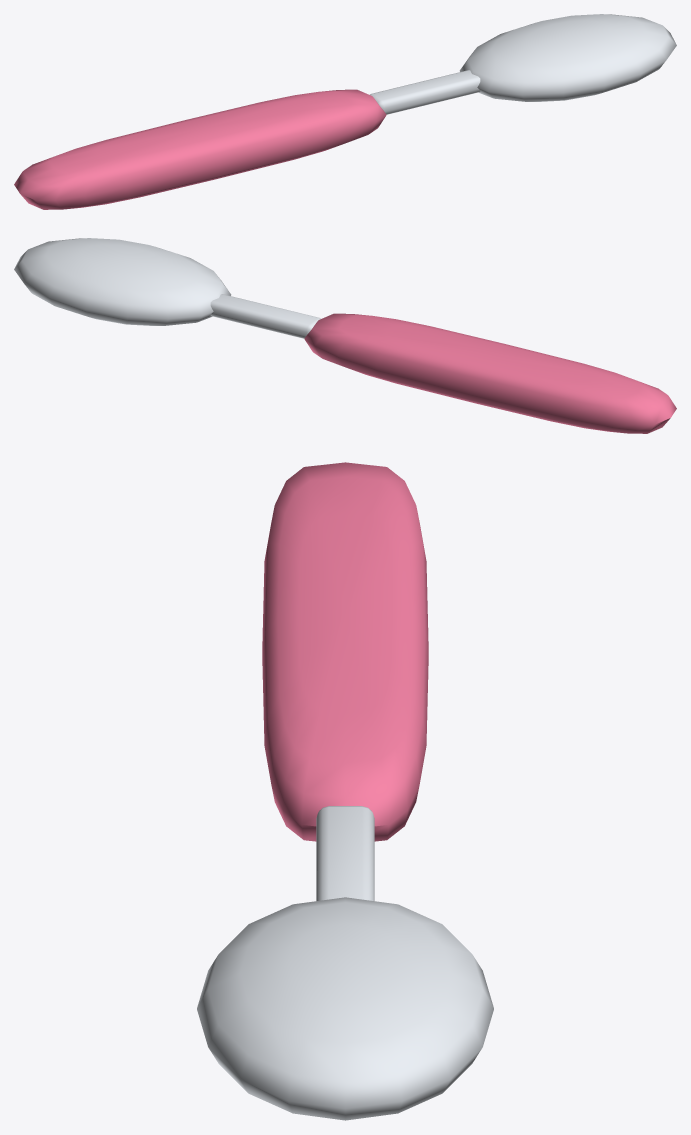
Rendered from colher.glb.
The picture shows the model from 3 angles, top to bottom: view 1: azimuth 30°, elevation 25°; view 2: azimuth 150°, elevation 25°; view 3: azimuth 270°, elevation 25°; orthographic projection. The views are drawn at different scales.
Visible parts, largest first — view 1: colher; view 2: colher; view 3: colher.
Boxes of the visible parts, x1,y1,x2,y2 form: colher: (14, 14, 676, 209); colher: (14, 238, 676, 433); colher: (197, 462, 493, 1120).
Size of the model in its own units: 0.1803 by 0.0134 by 0.0357.
1 material, 1 textured.
